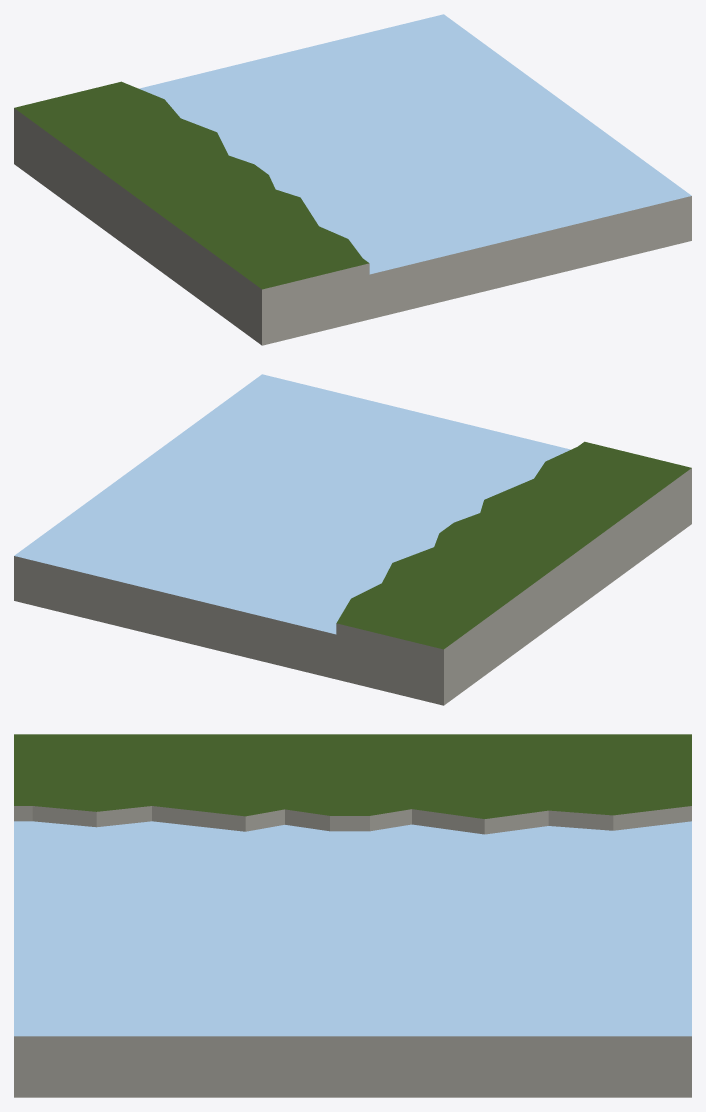
Rendered from Terrain_Tile_Grass_Rock_Water_Bank_03.fbx.
3 renders of one model, top to bottom at view 1: azimuth 30°, elevation 25°; view 2: azimuth 150°, elevation 25°; view 3: azimuth 270°, elevation 25°, orthographic. The views are drawn at different scales.
Visible parts, largest first — view 1: Model; view 2: Model; view 3: Model.
Part boxes in pixels (bbox=[...]): Model: bbox=[14, 14, 691, 345]; Model: bbox=[14, 374, 691, 705]; Model: bbox=[14, 734, 691, 1097].
Size of the model in its own units: 2000 by 250 by 2000.
